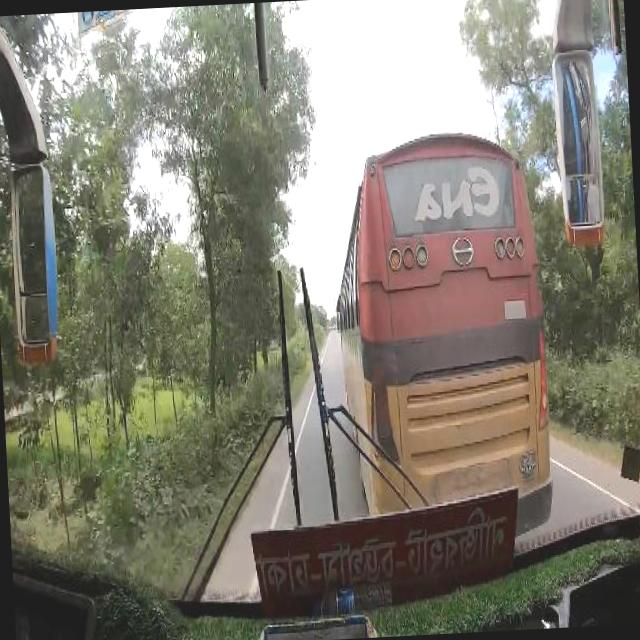bus: (327, 128, 560, 543)
